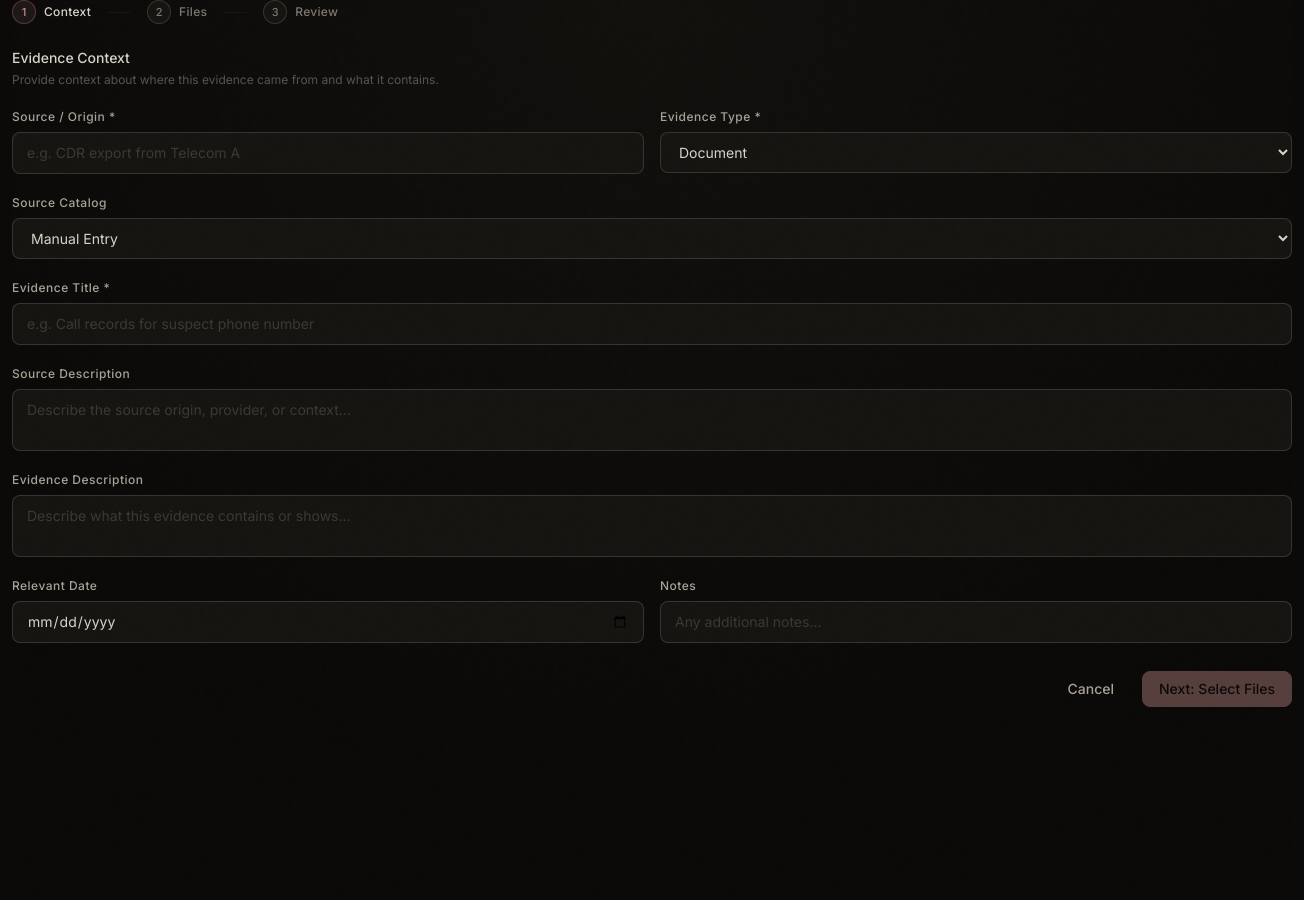
Scenario: EvidenceIntake › prevents advancing to review without files
Type "Telecom CDR export" into the field labelled "Source / Origin *" at coordinates (328, 153), box [12,132,644,174]
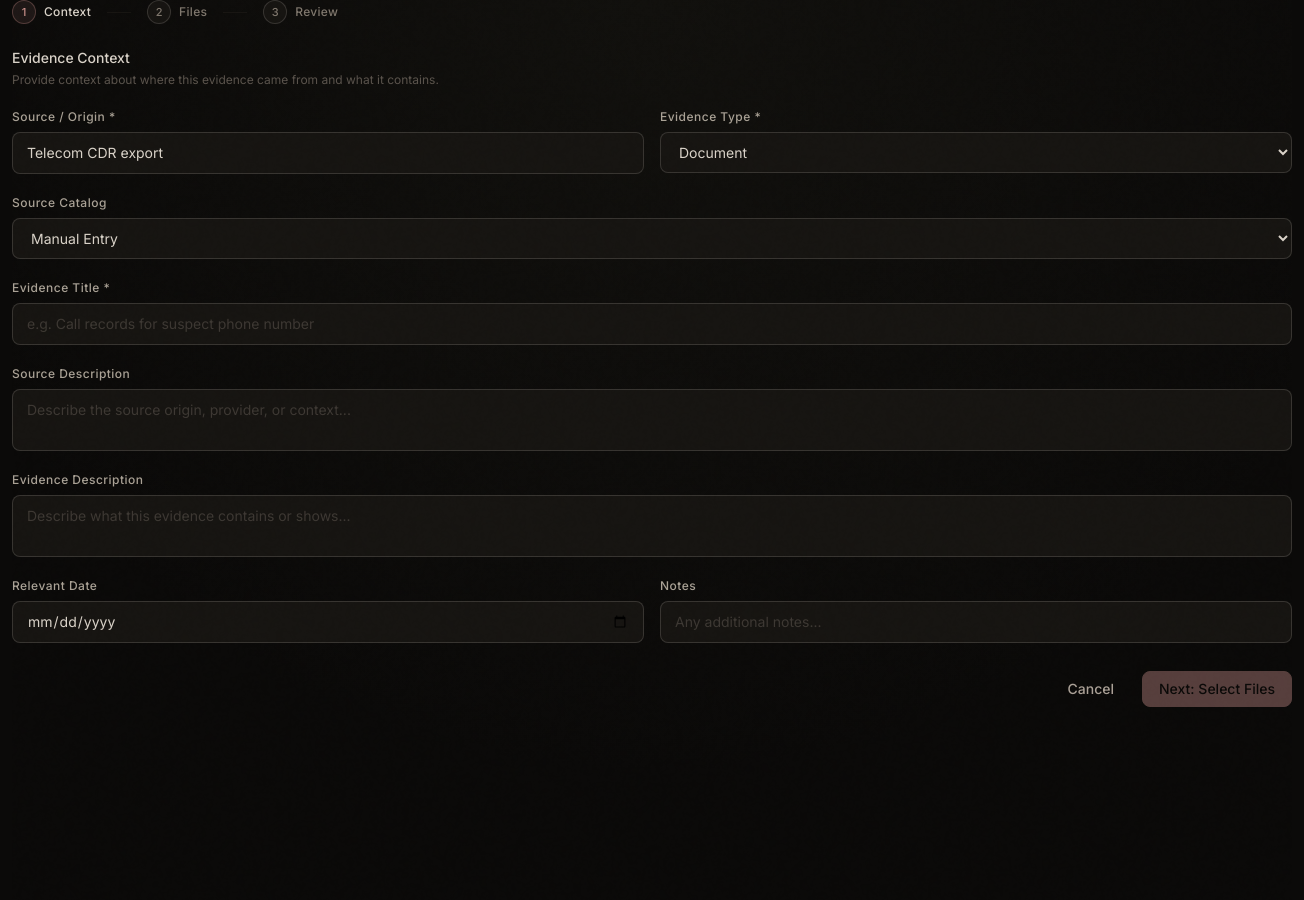
Type "Suspect call records" into the field labelled "Evidence Title *" at coordinates (652, 324), box [12,303,1292,345]
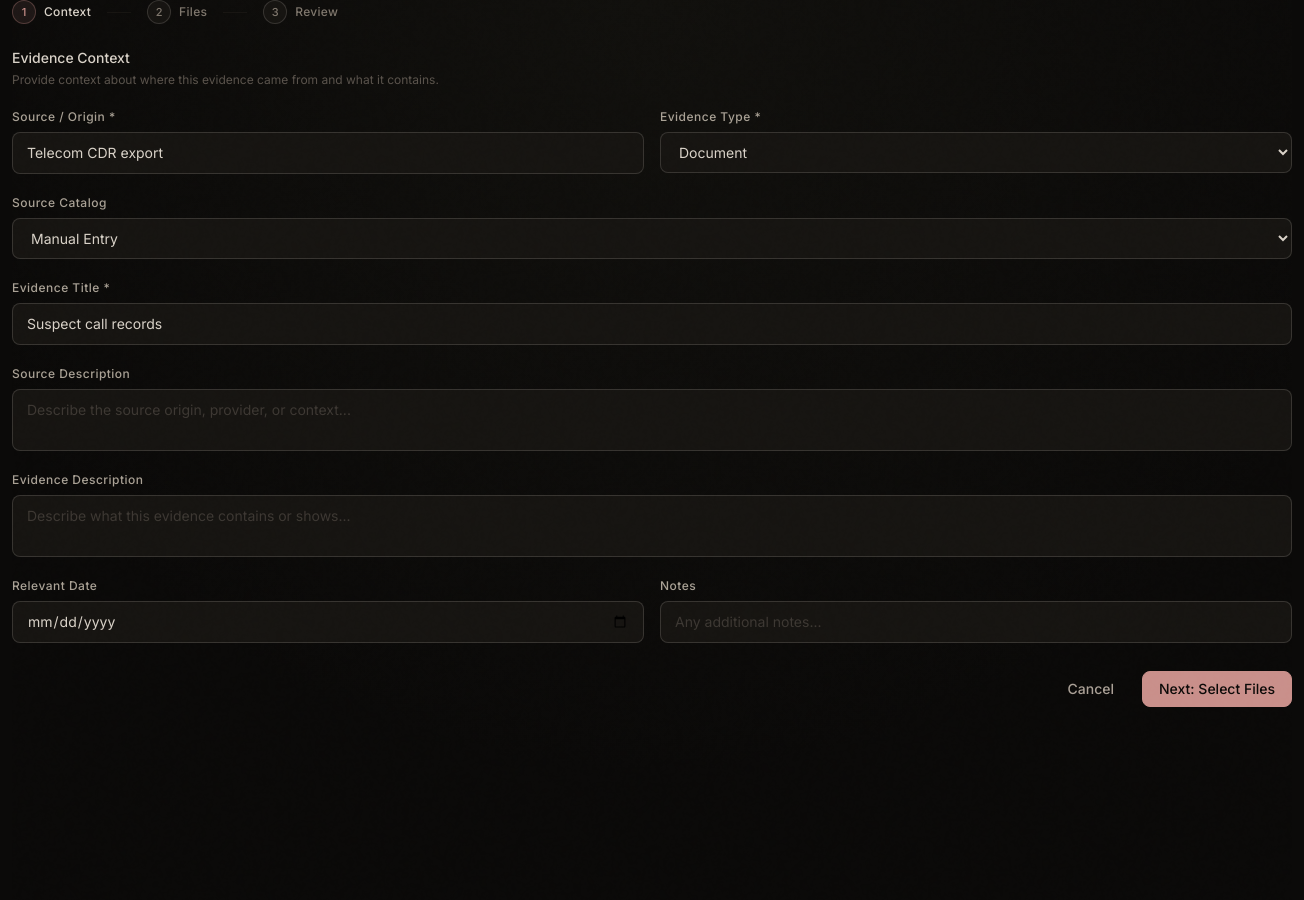
Click the button "Next: Select Files" at coordinates (1217, 689), box [1142,671,1292,707]
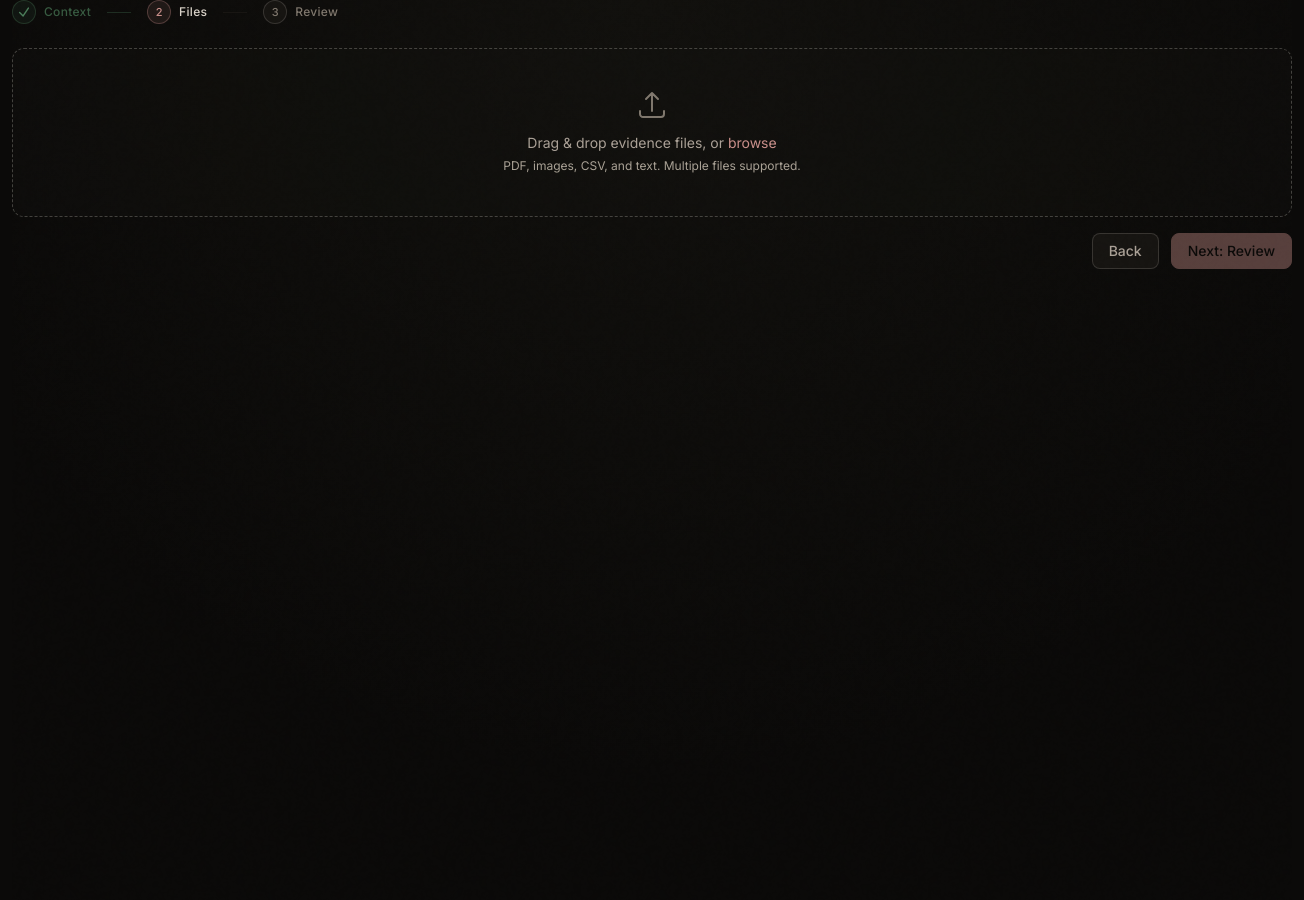
Check: the button "Next: Review" is disabled, box [1171,233,1292,269]
